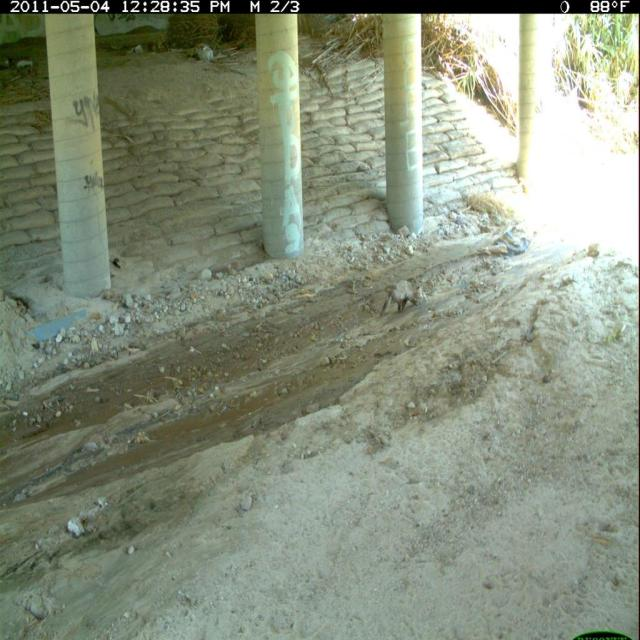opossum: (381, 277, 427, 318)
